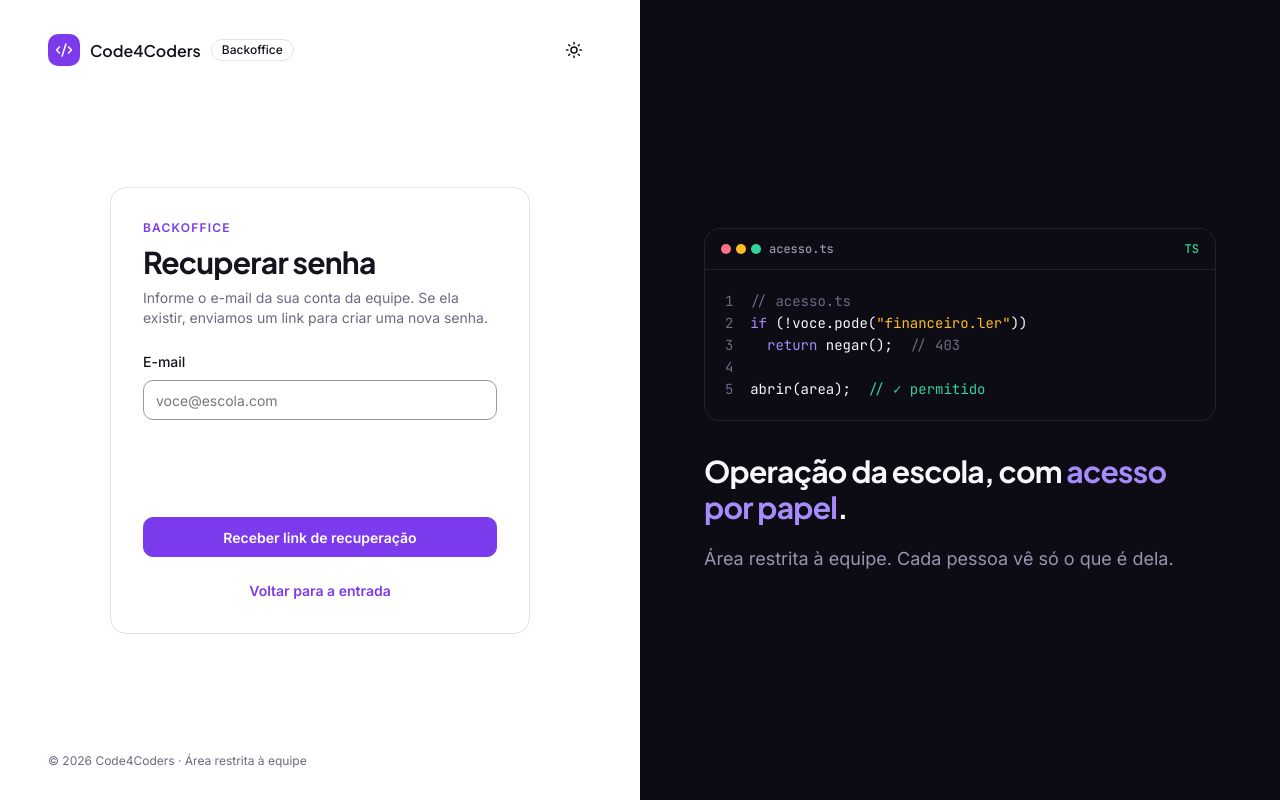
Test case: StaffPasswordRecovery › shows the error box when the request fails
The width and height of the screenshot is (1280, 800).
Type "marina@example.com" into the field labelled "E-mail" at (320, 400), box x1=143 y1=380 x2=497 y2=420
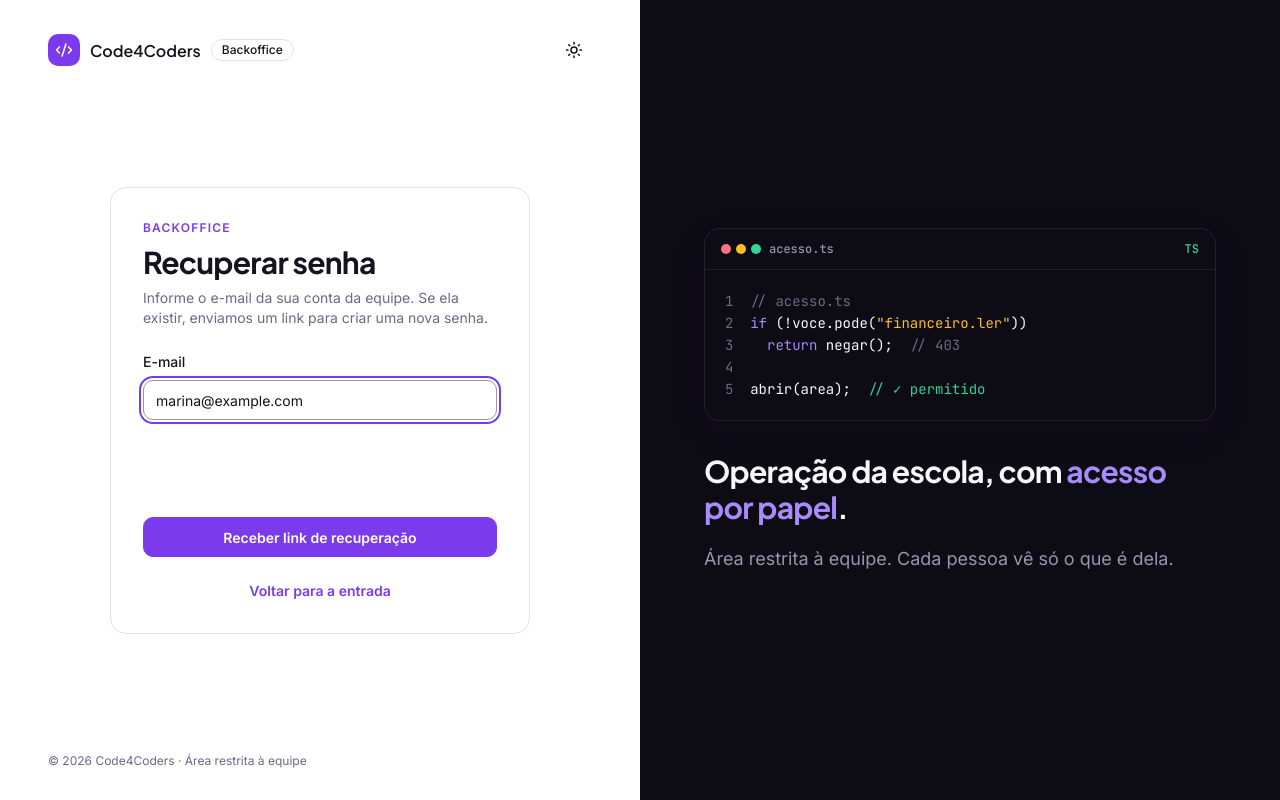
Click the button "Receber link de recuperação" at (320, 537), box x1=143 y1=517 x2=497 y2=557
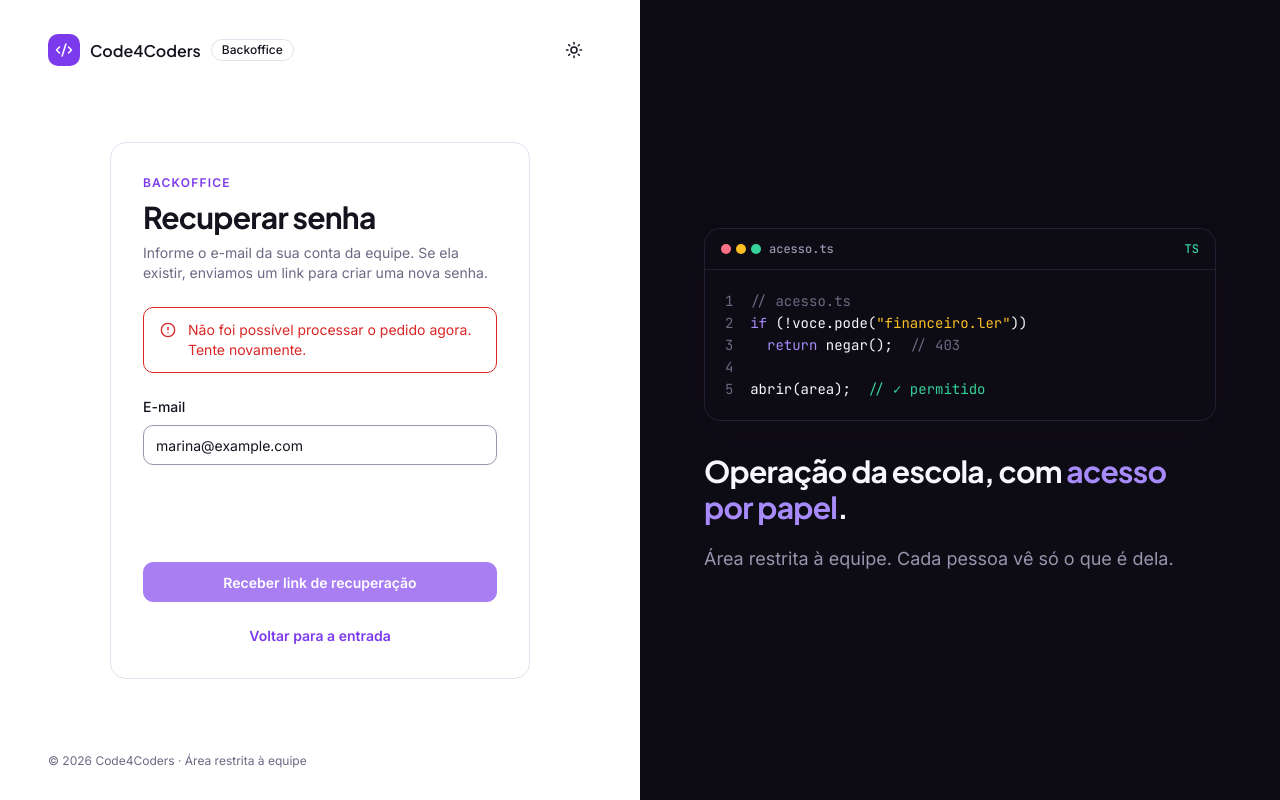
Expected: the link "Voltar para a entrada" is shown, x1=249 y1=627 x2=391 y2=644
Expected: the message reads "Não foi possível processar o pedido agora. Tente novamente.", x1=188 y1=321 x2=471 y2=358
